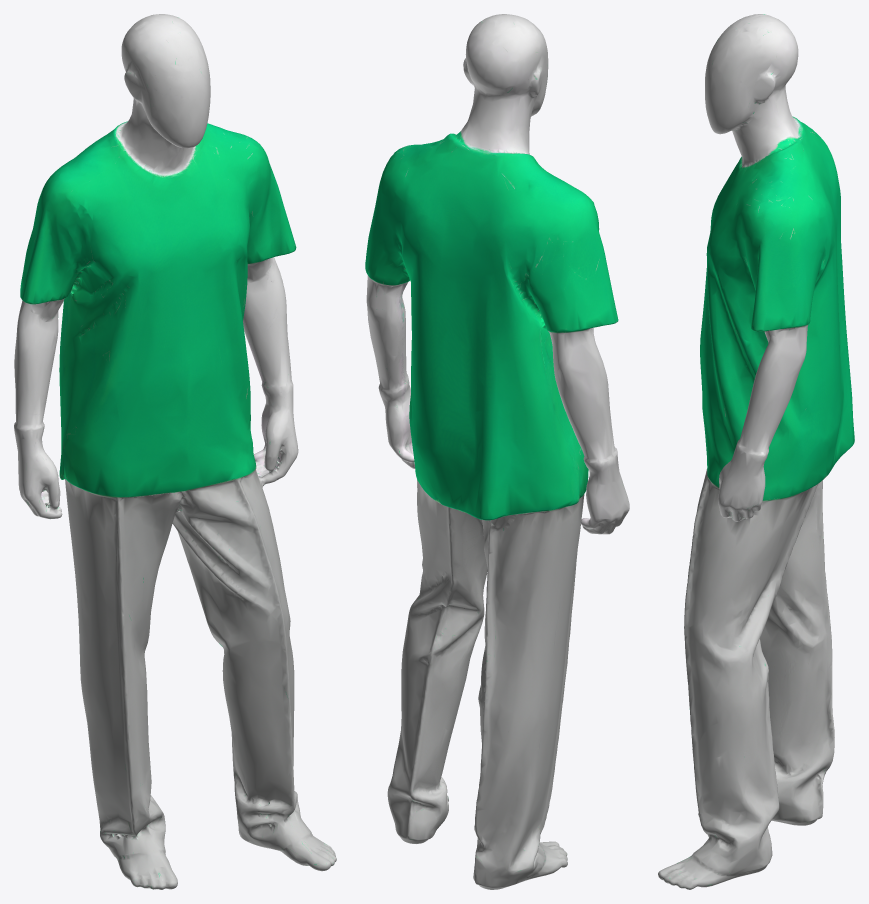
The model's file is avatar-tee.glb.
The picture shows the model from 3 angles, left to right: view 1: azimuth 30°, elevation 25°; view 2: azimuth 150°, elevation 25°; view 3: azimuth 270°, elevation 25°; orthographic projection. The views are drawn at different scales.
Parts seen in each view (by area): view 1: Mesh_0; view 2: Mesh_0; view 3: Mesh_0.
Part boxes in pixels (x1,y1,x2,y2): Mesh_0: (14, 14, 336, 889); Mesh_0: (365, 14, 629, 889); Mesh_0: (658, 14, 854, 889).
Bounding box in the file's own units: 0.6253 × 1.9 × 0.4173.
1 material, 1 textured.
